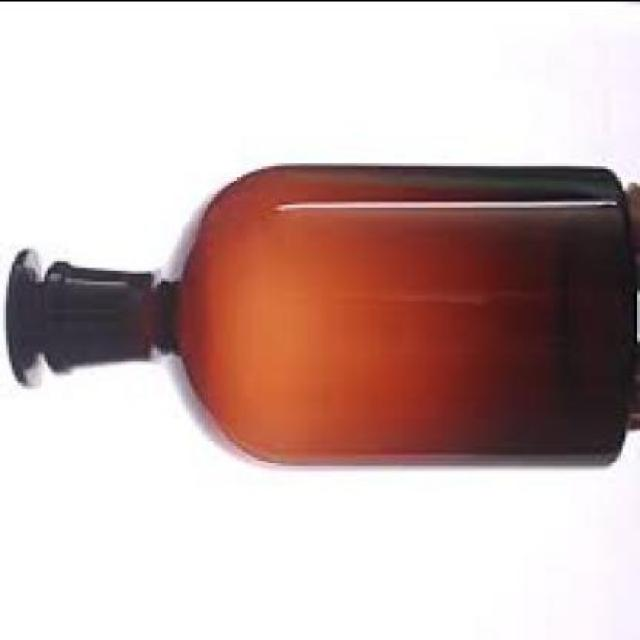GLASS: (3, 162, 628, 464)
